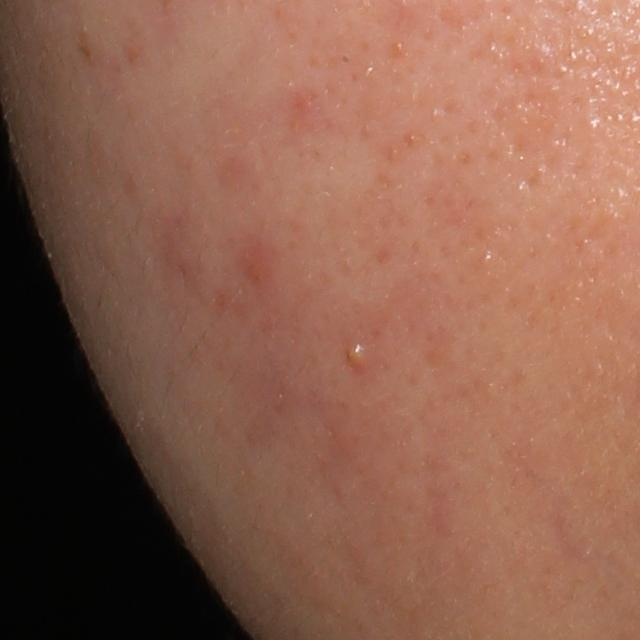pustule: (344, 340, 370, 370)
